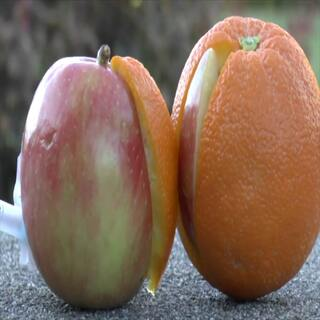apple: (16, 52, 163, 320)
orange: (107, 5, 320, 294)
